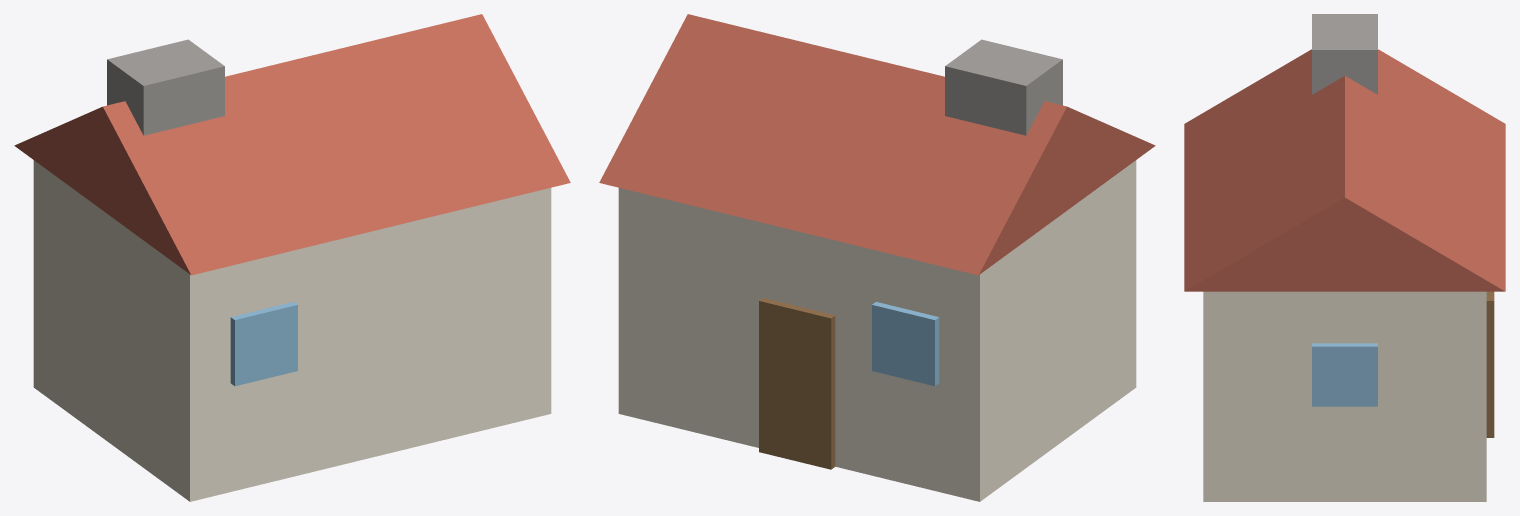
Rendered from house-spacebunnyalpha.glb.
3 renders of one model, left to right at view 1: azimuth 30°, elevation 25°; view 2: azimuth 150°, elevation 25°; view 3: azimuth 270°, elevation 25°, orthographic. The views are drawn at different scales.
Visible parts, largest first — view 1: House_LowPoly; view 2: House_LowPoly; view 3: House_LowPoly.
Part boxes in pixels (bbox=[...]): House_LowPoly: bbox=[14, 14, 570, 501]; House_LowPoly: bbox=[599, 14, 1155, 501]; House_LowPoly: bbox=[1184, 14, 1505, 501].
Bounding box in the file's own units: 4.2 × 3.9 × 3.4.
